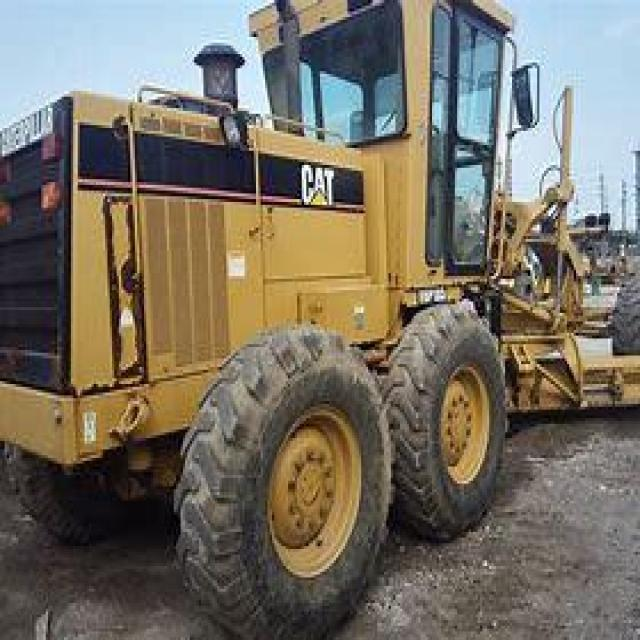Grader: (0, 0, 637, 614)
